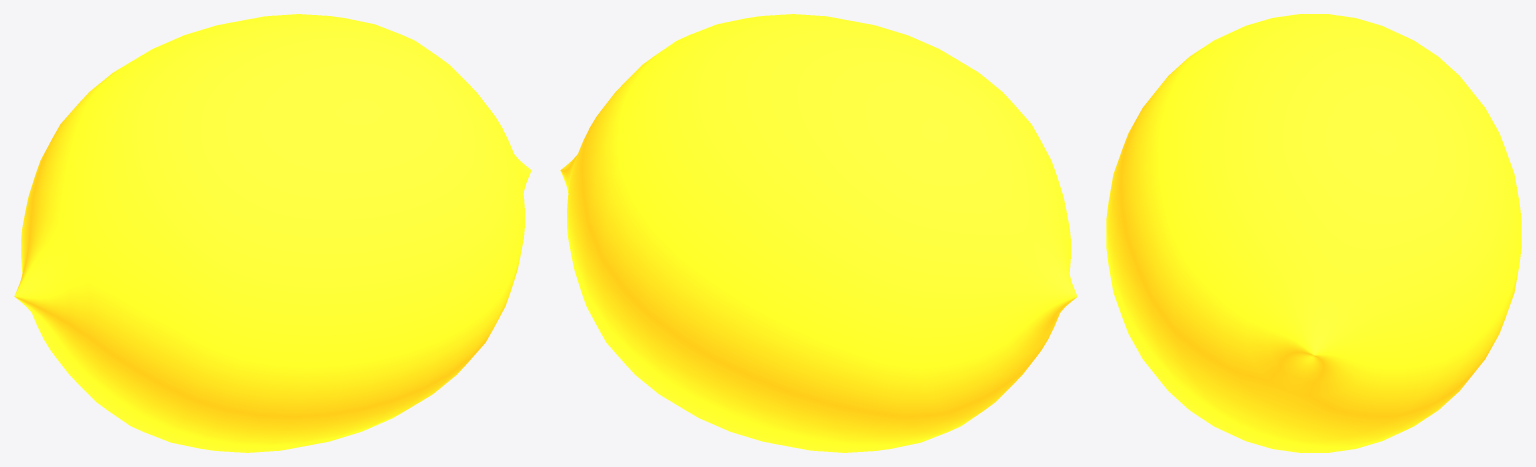
3 renders of one model, left to right at view 1: azimuth 30°, elevation 25°; view 2: azimuth 150°, elevation 25°; view 3: azimuth 270°, elevation 25°, orthographic. The views are drawn at different scales.
Parts seen in each view (by area): view 1: Lemon-whole; view 2: Lemon-whole; view 3: Lemon-whole.
Boxes of the visible parts, x1,y1,x2,y2 form: Lemon-whole: (14, 14, 531, 452); Lemon-whole: (560, 14, 1077, 452); Lemon-whole: (1106, 14, 1521, 452).
Bounding box in the file's own units: 0.0537 × 0.0387 × 0.0387.
